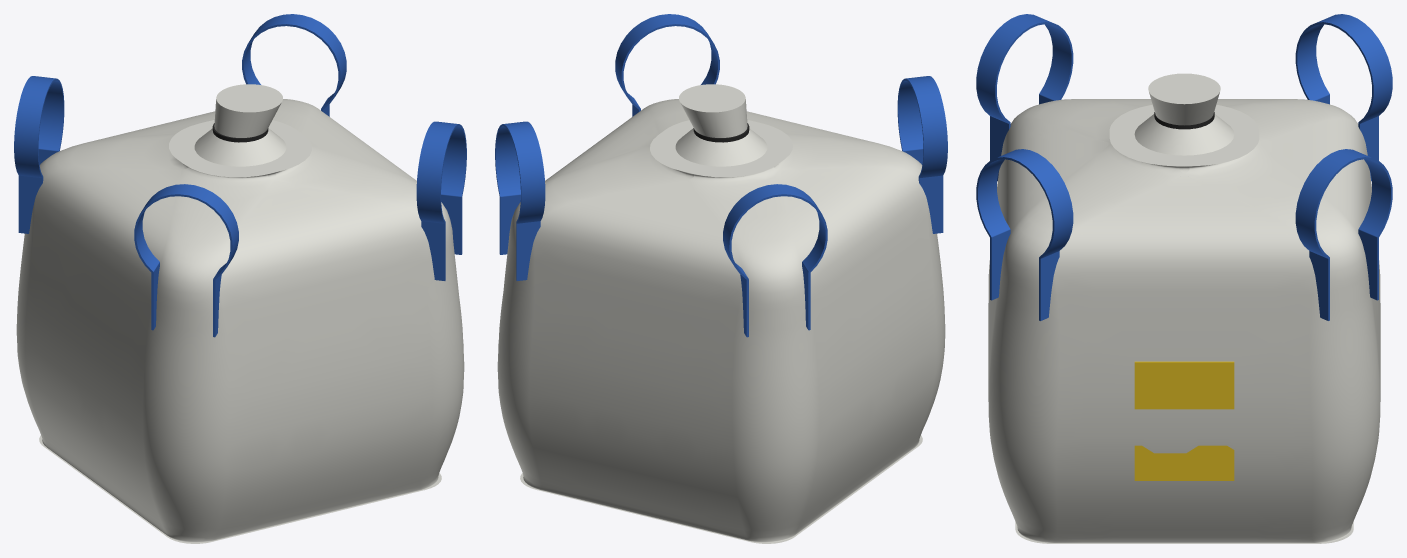
The model's file is bulk-bag-concrete.glb.
3 renders of one model, left to right at view 1: azimuth 30°, elevation 25°; view 2: azimuth 150°, elevation 25°; view 3: azimuth 270°, elevation 25°, orthographic. The views are drawn at different scales.
Parts seen in each view (by area): view 1: bag_body, lift_loop_0; view 2: bag_body, lift_loop_0; view 3: bag_body, lift_loop_0, document_pocket.
Part boxes in pixels (x1,y1,x2,y2): bag_body: [16, 84, 464, 543]; lift_loop_0: [14, 14, 466, 337]; bag_body: [497, 84, 945, 543]; lift_loop_0: [495, 14, 947, 337]; bag_body: [988, 73, 1380, 543]; lift_loop_0: [976, 14, 1392, 320]; document_pocket: [1134, 361, 1234, 480].
Bounding box in the file's own units: 1.08 × 1.12 × 1.08.
